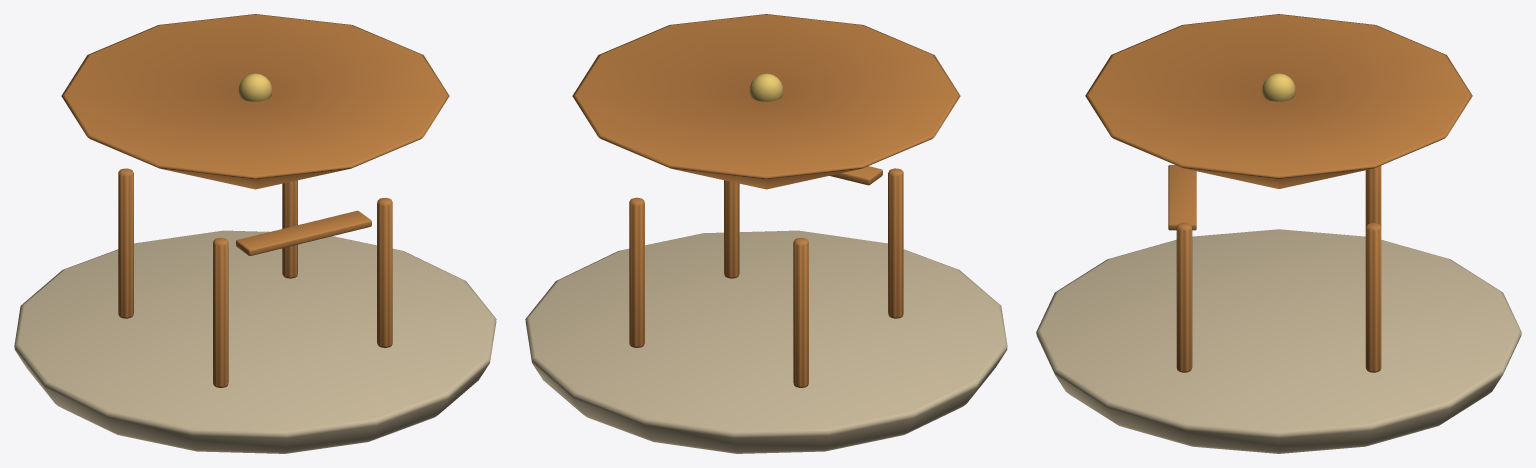
3 renders of one model, left to right at view 1: azimuth 30°, elevation 25°; view 2: azimuth 150°, elevation 25°; view 3: azimuth 270°, elevation 25°, orthographic.
Visible parts, largest first — view 1: landmark_9fc6dcdf; view 2: landmark_9fc6dcdf; view 3: landmark_9fc6dcdf.
Part boxes in pixels (left/top/right/bottom): landmark_9fc6dcdf: left=14, top=14, right=496, bottom=453; landmark_9fc6dcdf: left=525, top=14, right=1007, bottom=453; landmark_9fc6dcdf: left=1036, top=14, right=1521, bottom=453.
Size of the model in its own units: 5.13 by 3.33 by 5.13.
